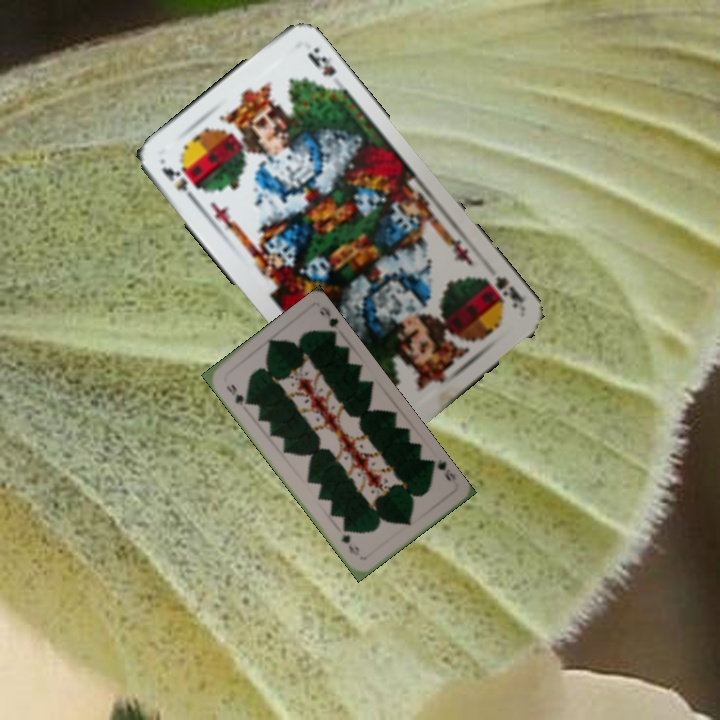G9: (426, 455, 458, 485), (222, 380, 252, 408)
SK: (477, 272, 528, 311), (157, 163, 202, 207)
